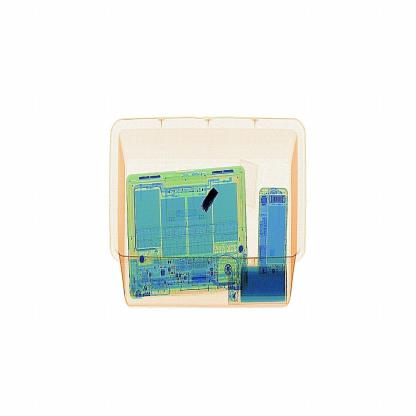scissors: (195, 171, 228, 220)
